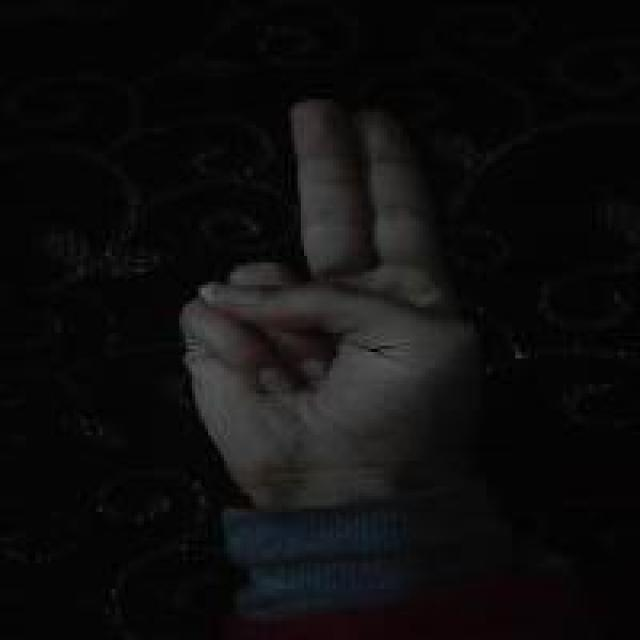U: (175, 90, 462, 496)
